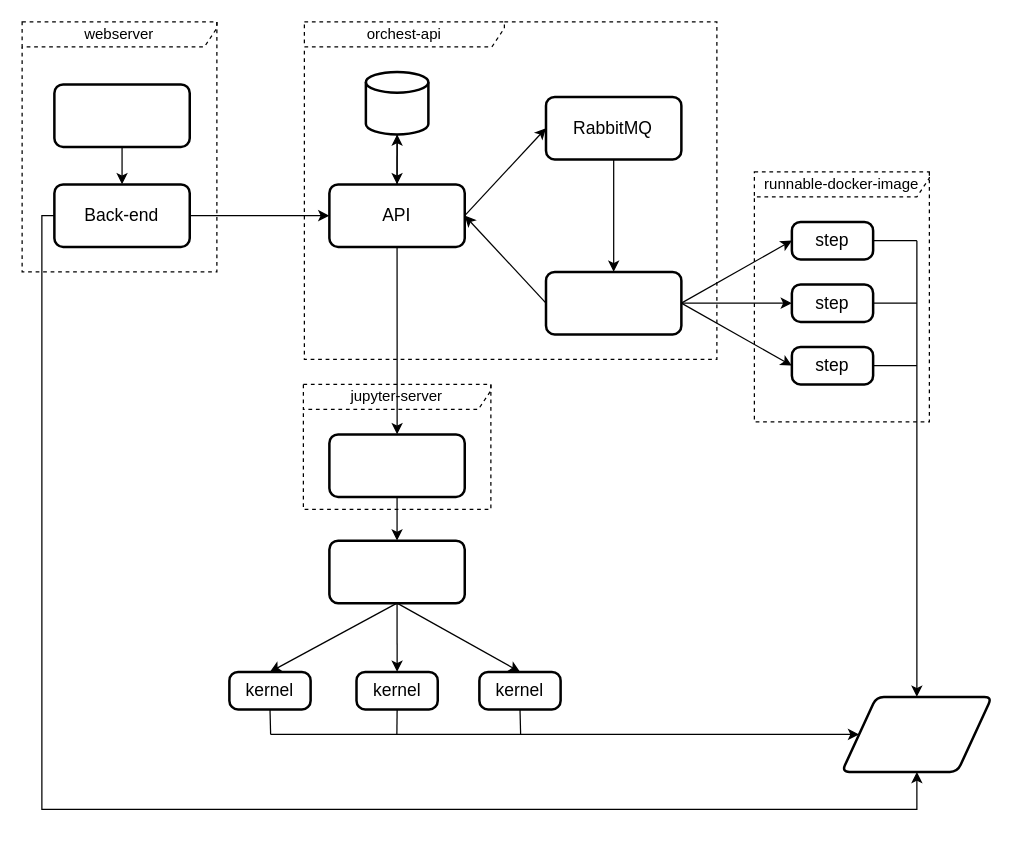
Image size: 1015x841. Some labels were removed from this diagram. The shapes that lost their labels are listed below. From the top down, each one's centre as x and y in pixels, then its label:
pixel 121 115: Front-end
pixel 396 102: state
pixel 613 302: Celery
pixel 396 465: JupyterLab
pixel 396 571: enterprise-gateway
pixel 916 733: userdir filesystem
